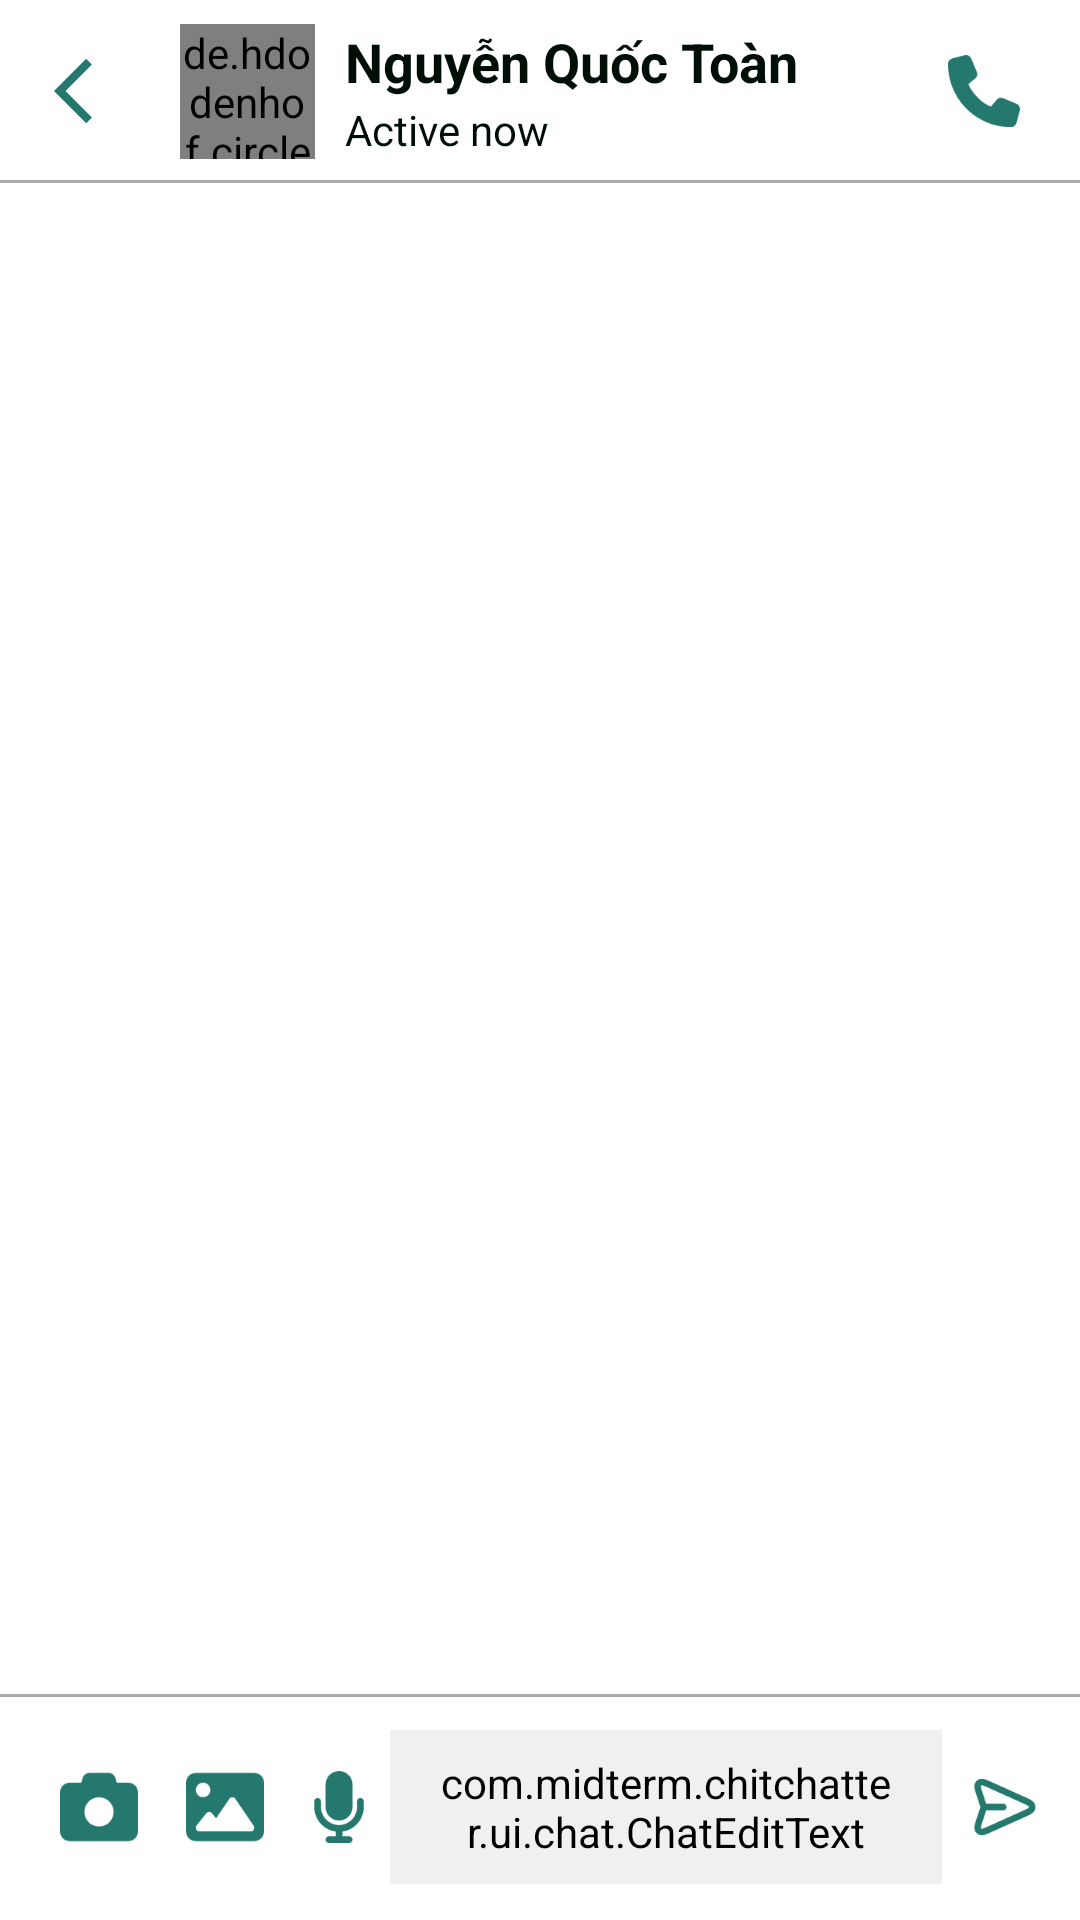

Where to tap for icons on this 1080*1920 app screen, as [x,y]:
back: [73,91]
call: [984,91]
camera: [99,1807]
gallery: [225,1807]
mic: [339,1807]
send: [1005,1807]
